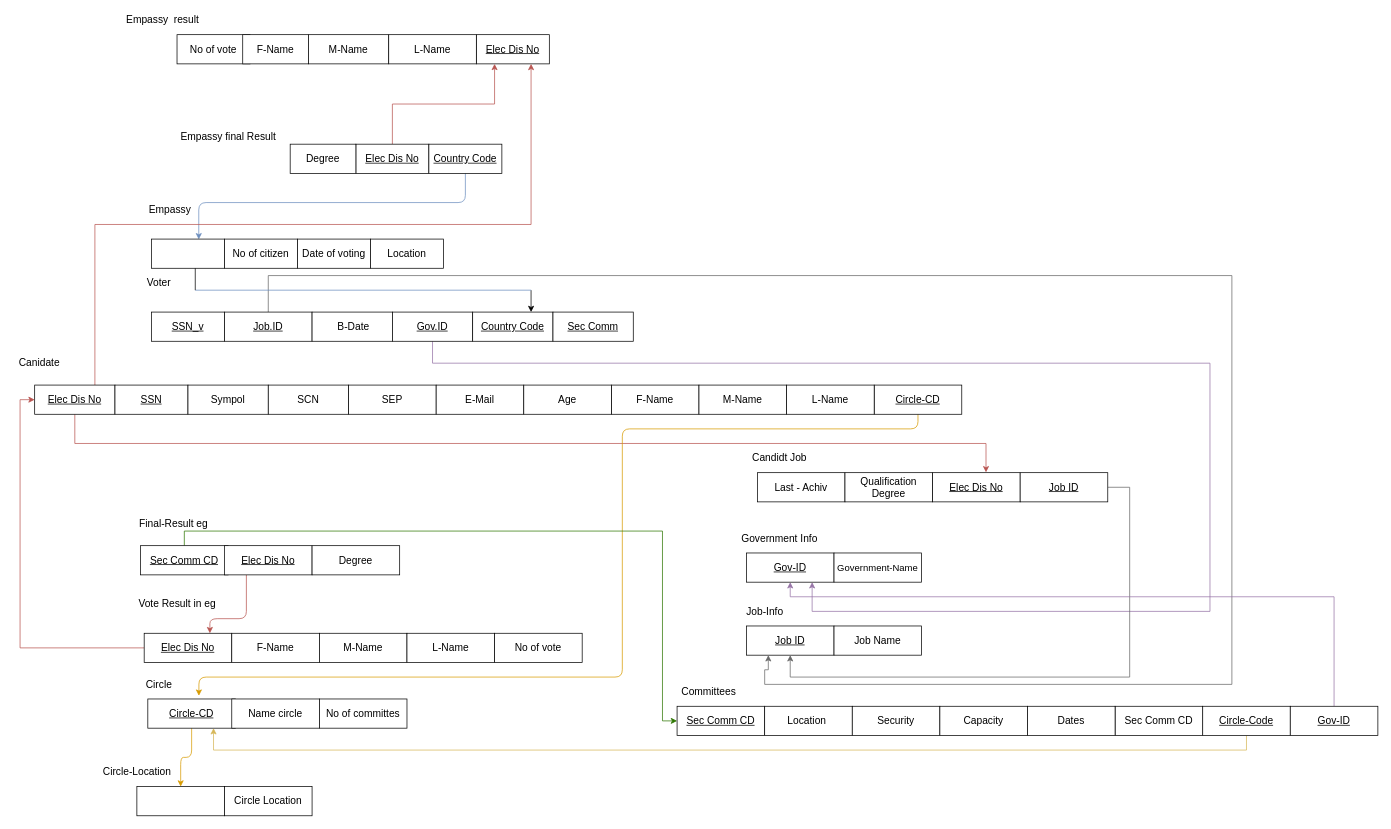
This 1391x829 diagram has some shape labels left out. Each missing label, with the centre of its shape:
"Circle CD" belongs at pixel 180 801.
"Counry Code" belongs at pixel 187 253.
